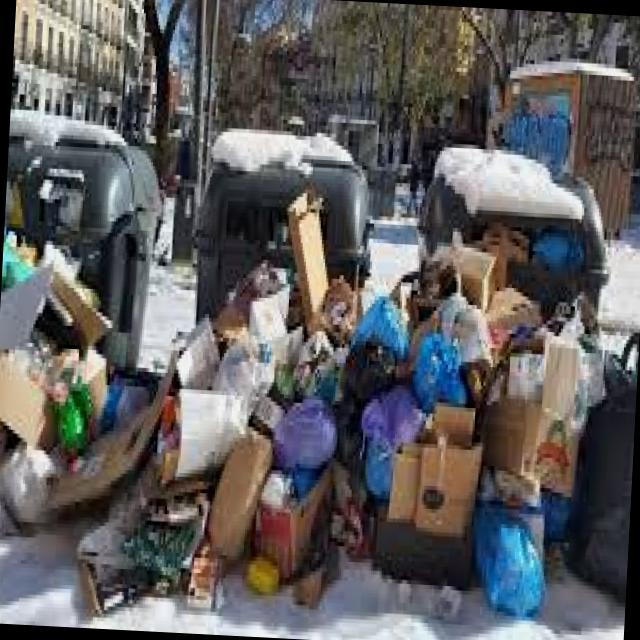garbage: (0, 108, 640, 634)
